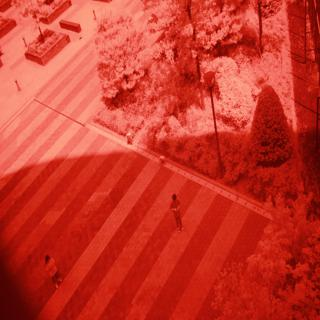person: (39, 246, 70, 298), (168, 189, 190, 234)
